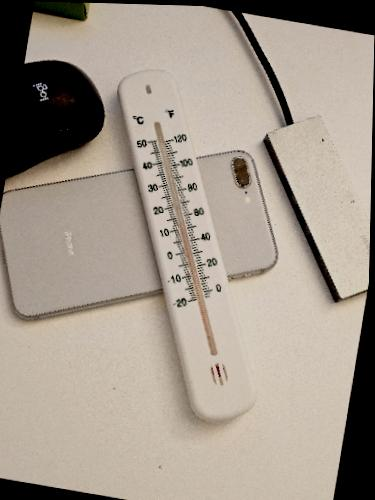thermo: (117, 66, 260, 419)
